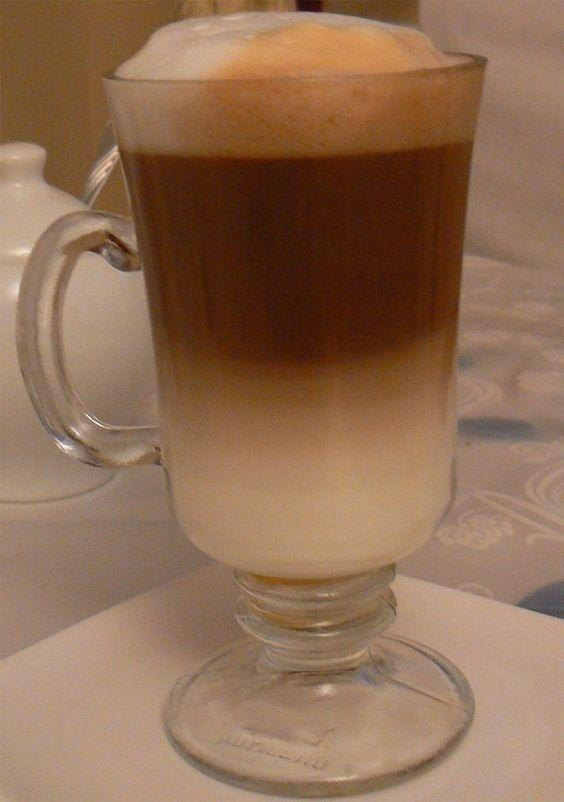glass-mug: (8, 27, 497, 792)
